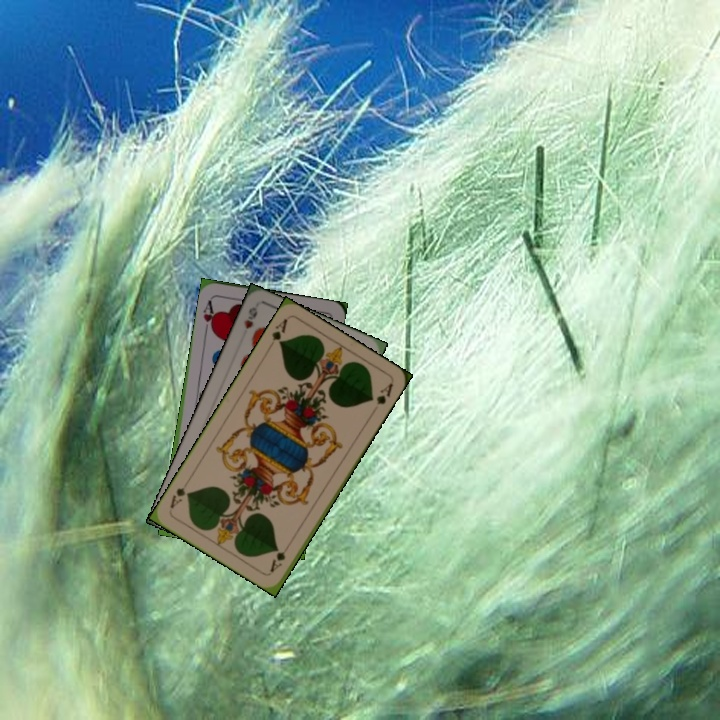GA: (266, 539, 293, 575), (264, 314, 290, 351)
H9: (240, 303, 260, 332)
HA: (199, 295, 219, 336)
